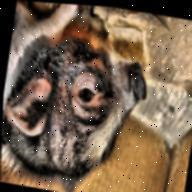boar: (0, 0, 157, 192)
